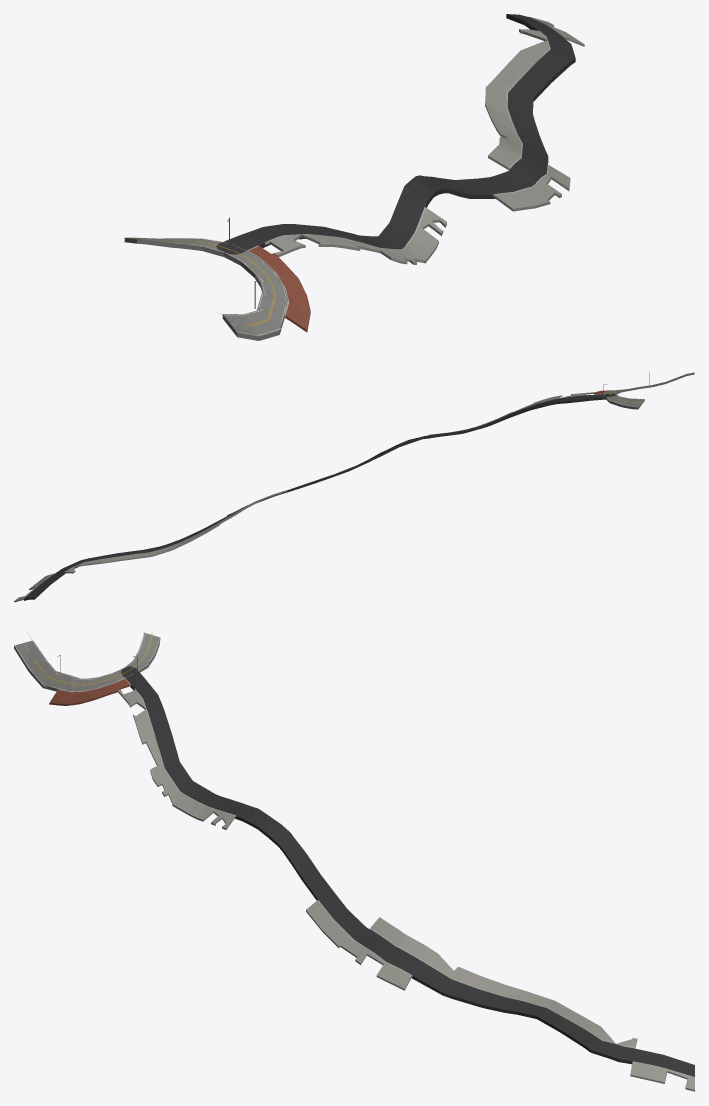
File: 17-109459-59504.fba49147.glb
3 renders of one model, top to bottom at view 1: azimuth 30°, elevation 25°; view 2: azimuth 150°, elevation 25°; view 3: azimuth 270°, elevation 25°, orthographic. The views are drawn at different scales.
Size of the model in its own units: 240 by 82.51 by 258.
